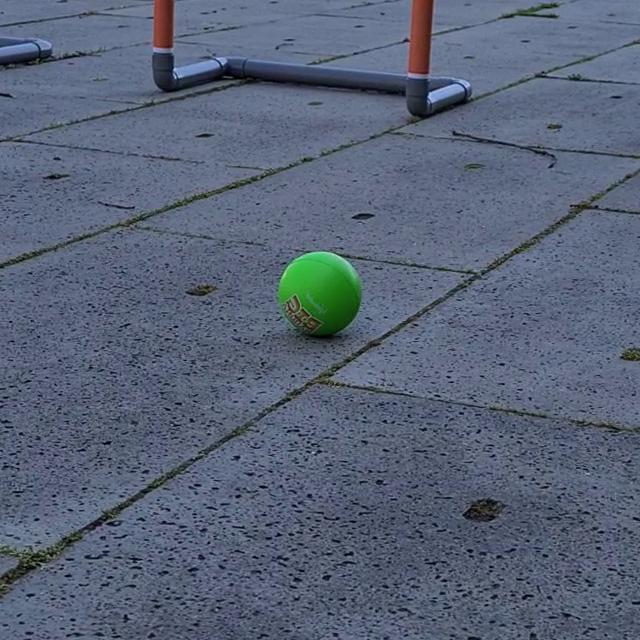ball: (276, 248, 364, 341)
